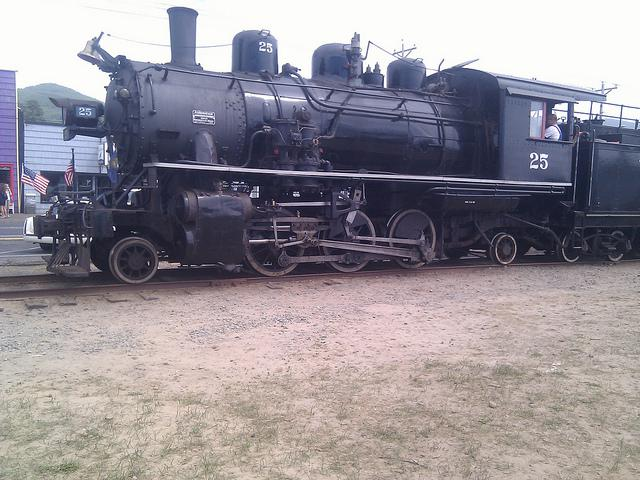Train: (24, 14, 640, 284)
